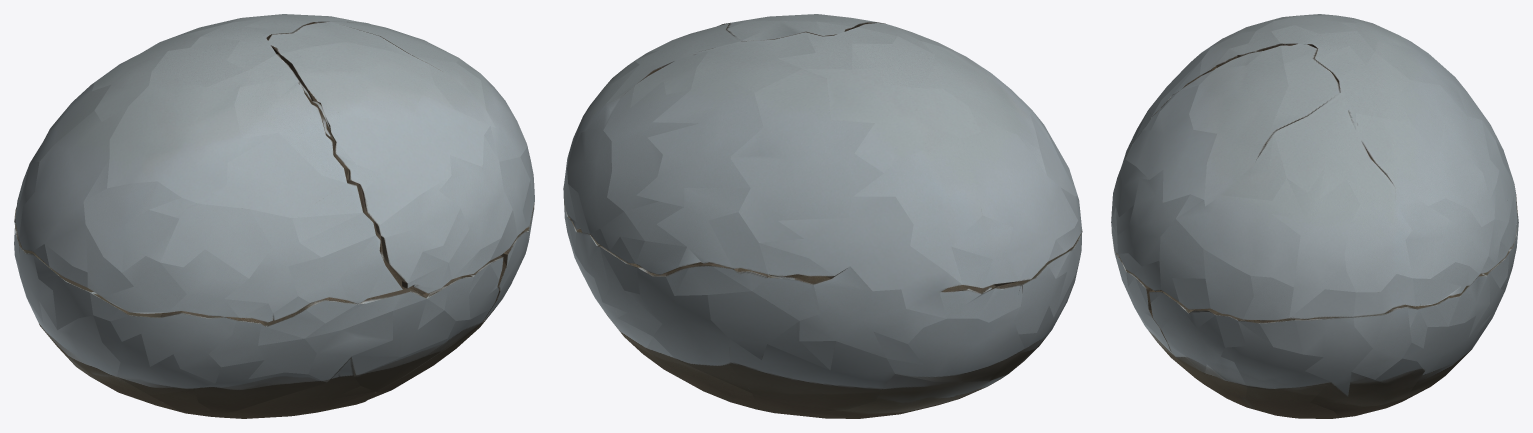
The model's file is shore_rock.glb.
3 views of the same model, side by side, from view 1: azimuth 30°, elevation 25°; view 2: azimuth 150°, elevation 25°; view 3: azimuth 270°, elevation 25° (orthographic). The views are drawn at different scales.
Parts seen in each view (by area): view 1: geometry_0; view 2: geometry_0; view 3: geometry_0.
Boxes of the visible parts, bbox=[...] form: geometry_0: bbox=[14, 14, 534, 418]; geometry_0: bbox=[563, 14, 1082, 418]; geometry_0: bbox=[1111, 14, 1518, 418].
Bounding box in the file's own units: 1 × 0.7356 × 0.8056.
1 material, 1 textured.
